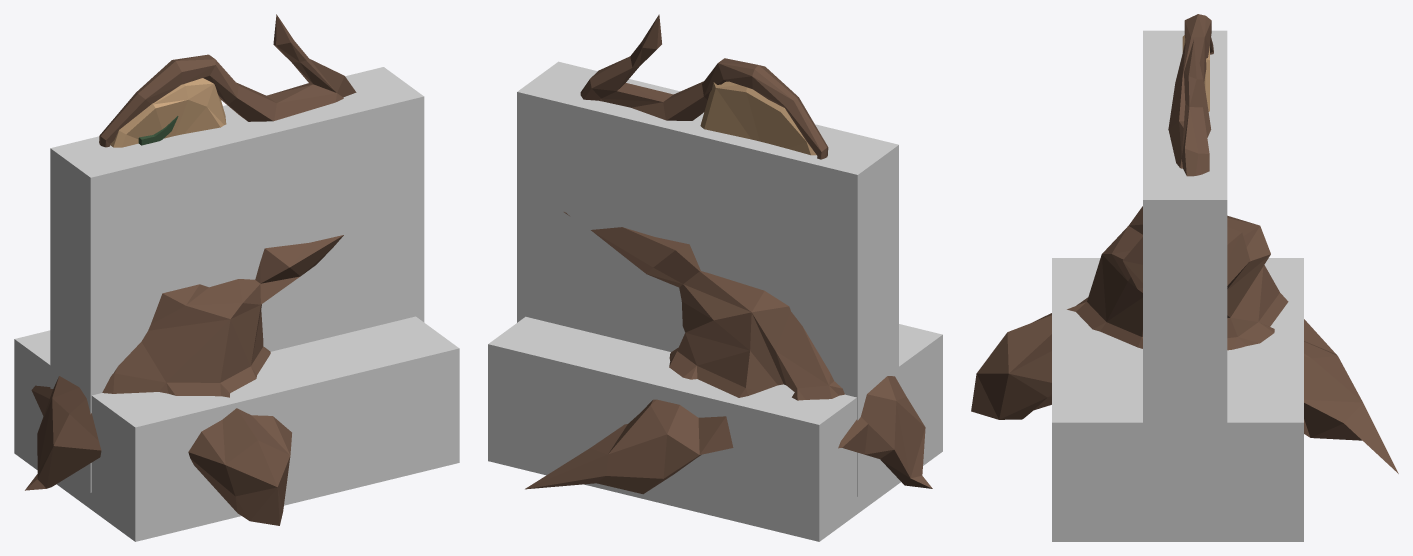
The model's file is elf_sculpture_rune.glb.
3 views of the same model, side by side, from view 1: azimuth 30°, elevation 25°; view 2: azimuth 150°, elevation 25°; view 3: azimuth 270°, elevation 25° (orthographic). The views are drawn at different scales.
Visible parts, largest first — view 1: Cube.003, Cube.001, sculpture_5; view 2: Cube.003, Cube.001, sculpture_5; view 3: Cube.001, Cube.003, sculpture_5.
Boxes of the visible parts, x1,y1,x2,y2 form: Cube.003: [50, 67, 424, 492]; Cube.001: [14, 316, 459, 541]; sculpture_5: [25, 14, 356, 525]; Cube.003: [517, 61, 898, 496]; Cube.001: [488, 316, 942, 541]; sculpture_5: [525, 14, 932, 494]; Cube.001: [1052, 258, 1303, 541]; Cube.003: [1143, 30, 1227, 528]; sculpture_5: [971, 14, 1398, 473].
Bounding box in the file's own units: 2.14 × 2.28 × 1.99.
Materials: 1 (1 with a texture image).
